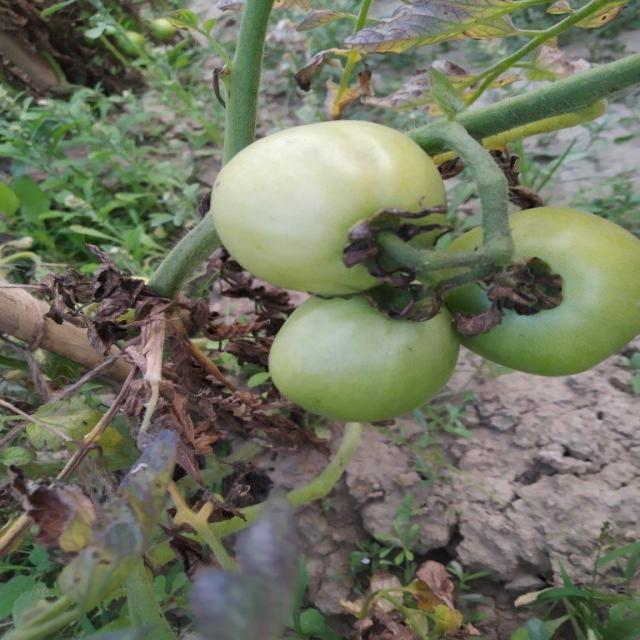Unripe: (210, 119, 453, 296), (443, 202, 640, 376), (268, 289, 456, 425)
